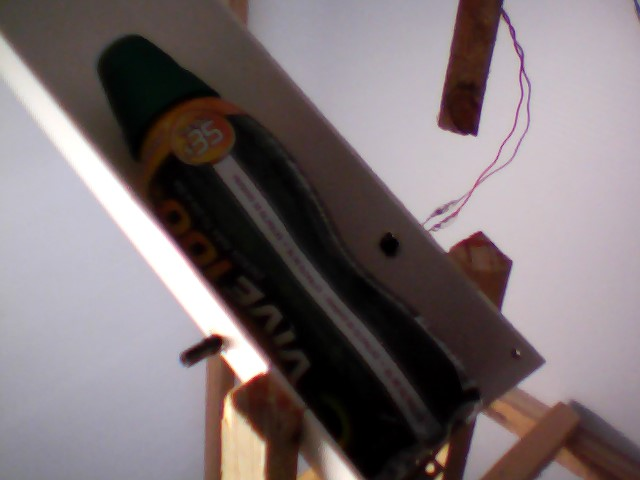plastico: (88, 27, 496, 480)
